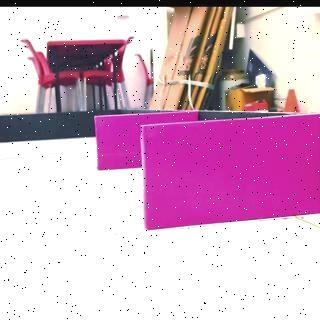xparking: (141, 126, 320, 224), (96, 116, 138, 170)
